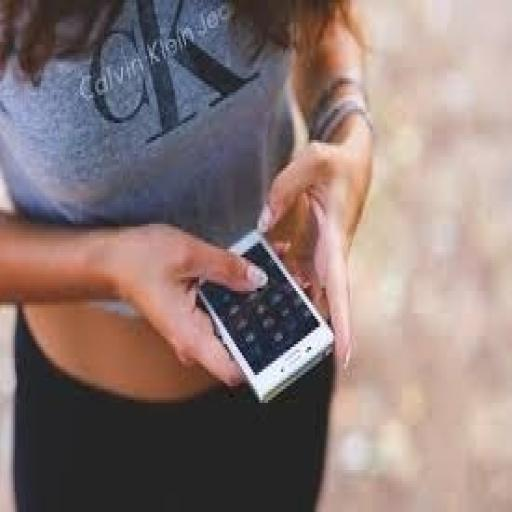texting: (0, 0, 376, 509)
